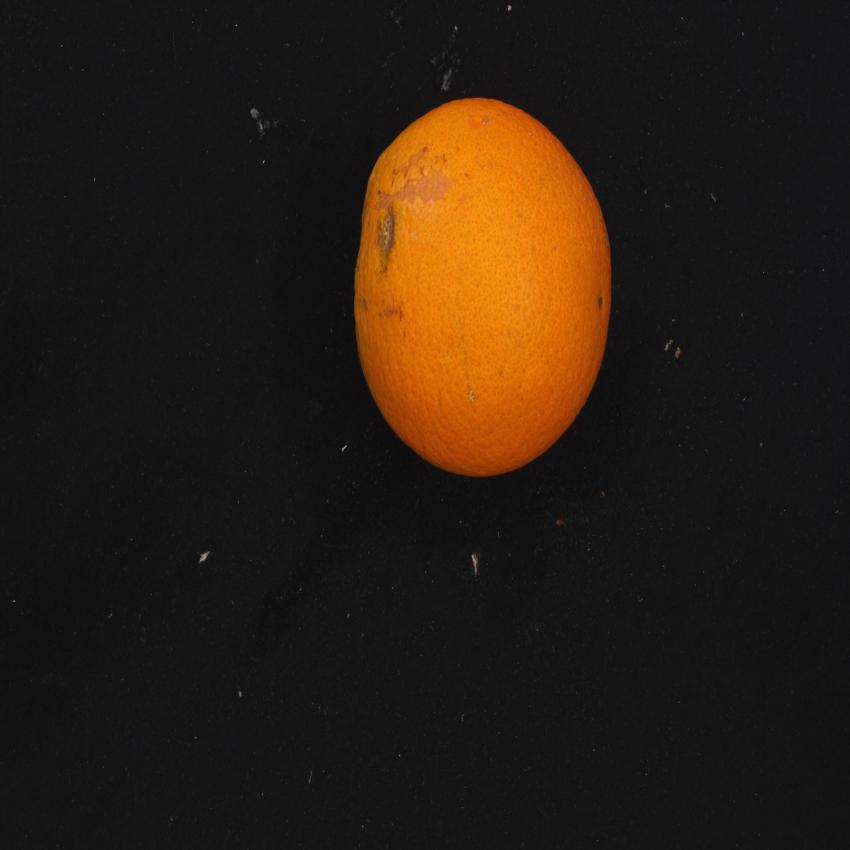Mal estado: (340, 80, 632, 491)
